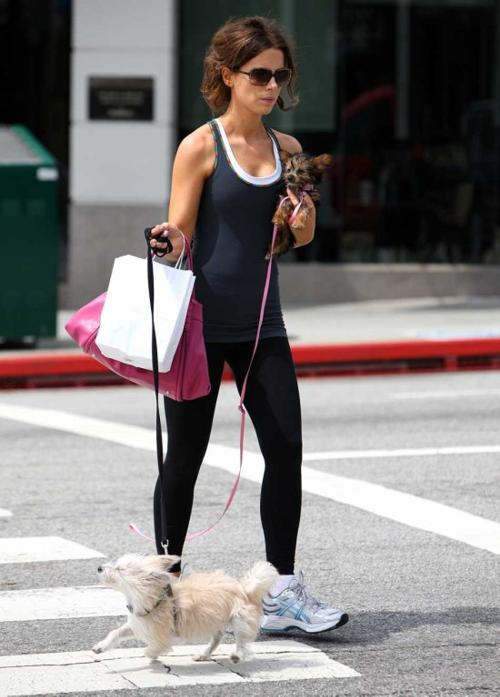person: (150, 18, 346, 635)
